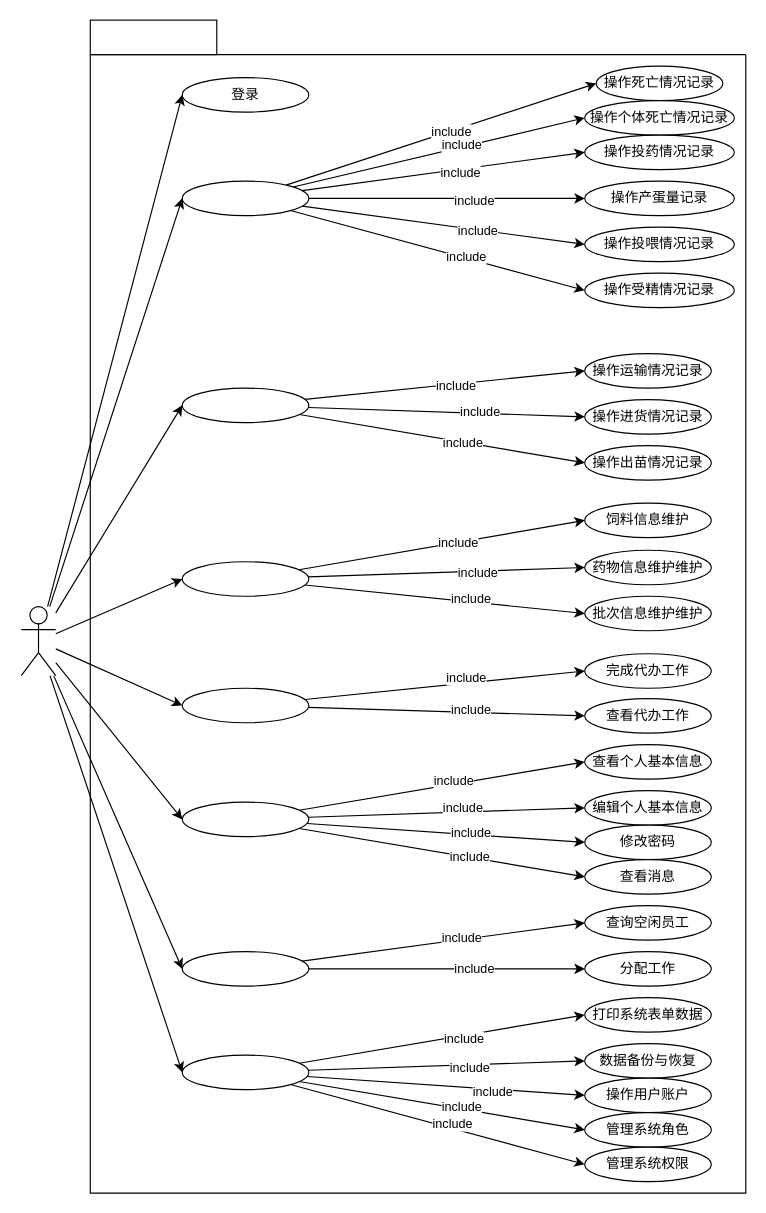
The diagram is 766 pixels wide and 1213 high, and some of its shapes have lost their labels. The box of each missing label's shape, as (x1, y1, x2, y2) in pixels:
个人中心管理: (181, 801, 309, 837)
培育记录管理: (181, 180, 309, 216)
字段维护: (181, 561, 309, 596)
工作分配管理: (181, 950, 309, 986)
管理员: (20, 605, 56, 676)
管理员用例图: (89, 19, 217, 55)
系统管理: (181, 1054, 309, 1090)
运输记录管理: (181, 387, 309, 423)
首页管理: (181, 687, 309, 723)
